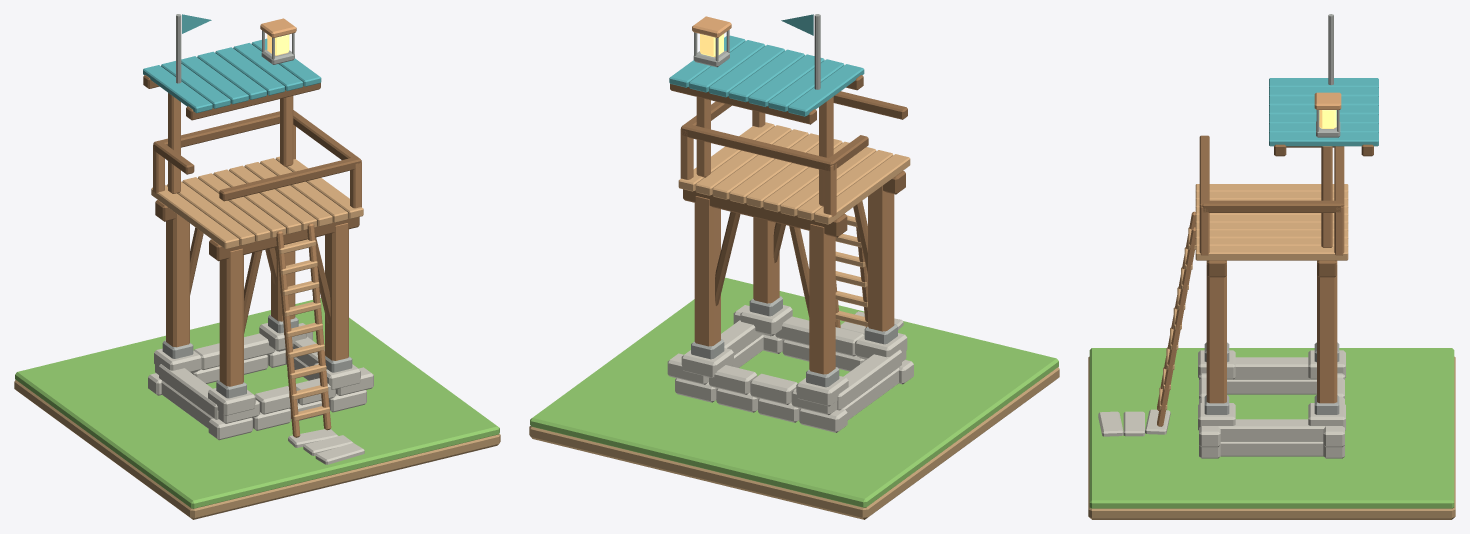
Rendered from tower_l02_active_LOD0.glb.
3 renders of one model, left to right at view 1: azimuth 30°, elevation 25°; view 2: azimuth 150°, elevation 25°; view 3: azimuth 270°, elevation 25°, orthographic. The views are drawn at different scales.
Parts seen in each view (by area): view 1: tower_l02_grass_tile, tower_l02_earth_tile, post_-0.61_-0.54, post_-0.61_0.54, post_0.61_-0.54, balcony_rail_-0.66, deck_board_0, ladder_rail_-0.18, deck_bearer_-0.54, stone_return_1_-0.72, balcony_rail_0.66, deck_board_2 (+33 smaller); view 2: tower_l02_grass_tile, tower_l02_earth_tile, post_-0.61_0.54, post_-0.61_-0.54, post_0.61_0.54, balcony_rail_0.66, post_0.61_-0.54, deck_board_0, deck_bearer_0.54, stone_return_1_-0.72, canopy_board_0, deck_board_6 (+35 smaller); view 3: tower_l02_grass_tile, tower_l02_earth_tile, post_0.61_0.54, post_0.61_-0.54, stone_return_1_0.72, deck_board_8, balcony_side_rail, stone_return_1_-0.72, stone_return_0_0.72, canopy_board_6, stone_return_0_-0.72, ladder_rail_0.18 (+28 smaller).
Boxes of the visible parts, x1,y1,x2,y2 form: tower_l02_grass_tile: [15, 298, 499, 508]; tower_l02_earth_tile: [14, 380, 500, 519]; post_-0.61_-0.54: [219, 248, 243, 386]; post_-0.61_0.54: [166, 213, 189, 347]; post_0.61_-0.54: [325, 223, 348, 360]; balcony_rail_-0.66: [219, 156, 361, 201]; deck_board_0: [151, 185, 239, 249]; ladder_rail_-0.18: [276, 231, 300, 437]; deck_bearer_-0.54: [209, 217, 359, 261]; stone_return_1_-0.72: [159, 364, 218, 419]; balcony_rail_0.66: [153, 110, 293, 147]; deck_board_2: [182, 177, 270, 241]; tower_l02_grass_tile: [530, 277, 1058, 507]; tower_l02_earth_tile: [529, 367, 1059, 519]; post_-0.61_0.54: [809, 224, 835, 374]; post_-0.61_-0.54: [868, 185, 894, 331]; post_0.61_0.54: [694, 196, 720, 346]; balcony_rail_0.66: [681, 123, 834, 171]; post_0.61_-0.54: [753, 217, 779, 303]; deck_board_0: [814, 154, 910, 224]; deck_bearer_0.54: [683, 189, 847, 237]; stone_return_1_-0.72: [837, 350, 901, 410]; canopy_board_0: [788, 64, 864, 116]; deck_board_6: [712, 129, 808, 199]; tower_l02_grass_tile: [1089, 348, 1454, 508]; tower_l02_earth_tile: [1088, 356, 1455, 519]; post_0.61_0.54: [1317, 261, 1337, 403]; post_0.61_-0.54: [1206, 261, 1226, 403]; stone_return_1_0.72: [1218, 419, 1325, 441]; deck_board_8: [1195, 246, 1348, 260]; balcony_side_rail: [1202, 200, 1341, 212]; stone_return_1_-0.72: [1234, 357, 1309, 379]; stone_return_0_0.72: [1220, 441, 1323, 456]; canopy_board_6: [1269, 132, 1378, 146]; stone_return_0_-0.72: [1227, 379, 1316, 394]; ladder_rail_0.18: [1157, 227, 1195, 426].
Size of the model in its own units: 3.6 by 4.37 by 3.6.
